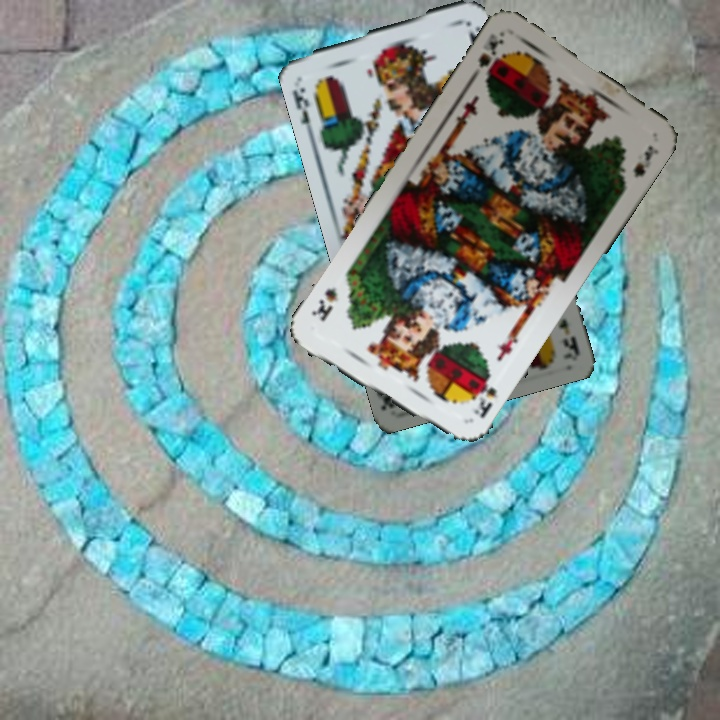EK: (289, 72, 313, 128), (554, 315, 582, 354)
SK: (466, 29, 507, 85), (468, 372, 500, 421)
